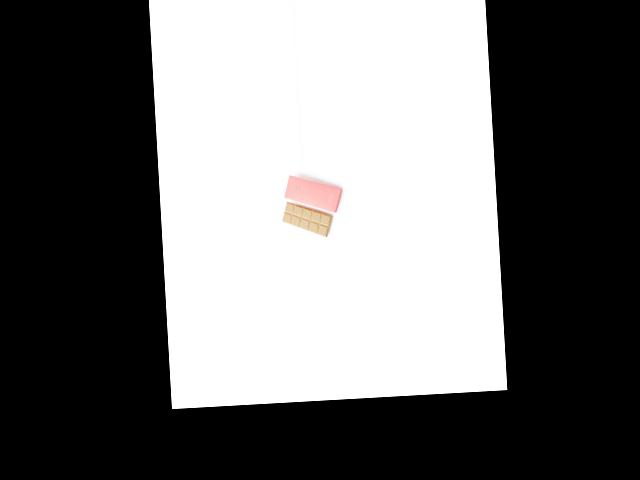chocolate: (280, 196, 336, 239)
